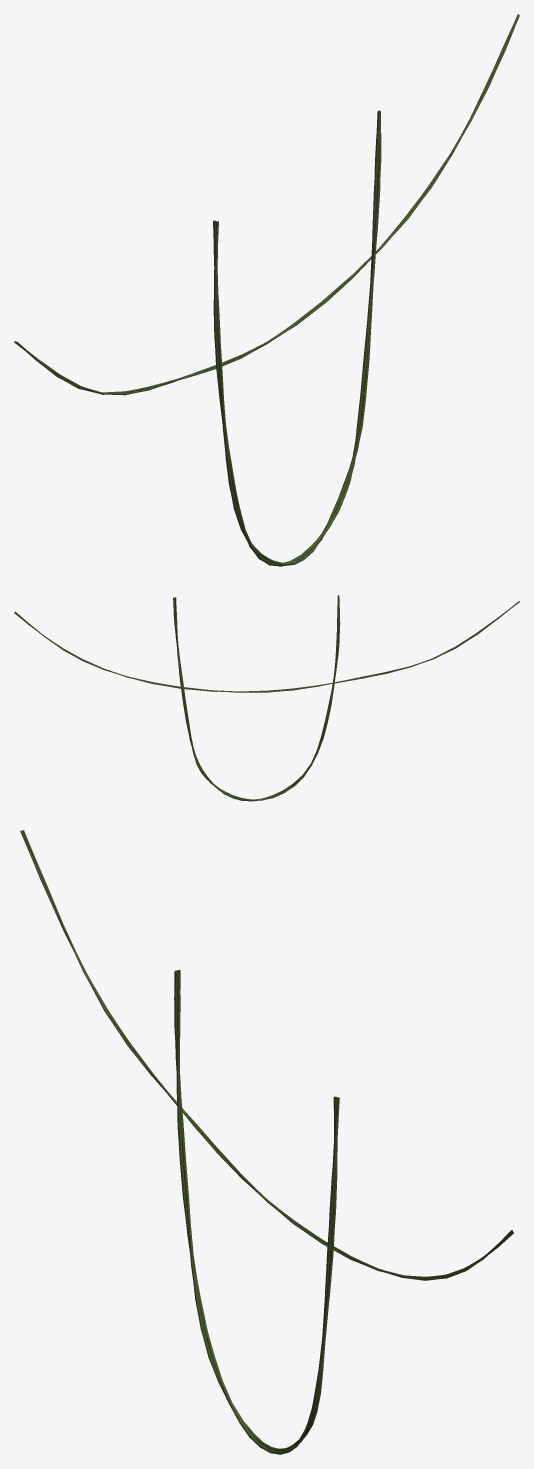
The model's file is hosoi_tuta.fbx.
The picture shows the model from 3 angles, top to bottom: view 1: azimuth 30°, elevation 25°; view 2: azimuth 150°, elevation 25°; view 3: azimuth 270°, elevation 25°; orthographic projection. The views are drawn at different scales.
Parts seen in each view (by area): view 1: hosoi_tuta; view 2: hosoi_tuta; view 3: hosoi_tuta.
Boxes of the visible parts, x1,y1,x2,y2 form: hosoi_tuta: (14,14,519,566); hosoi_tuta: (14,595,519,801); hosoi_tuta: (20,830,513,1454).
Bounding box in the file's own units: 1568 × 810 × 875.
